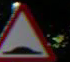Speed Breaker ahead: (3, 3, 54, 60)
